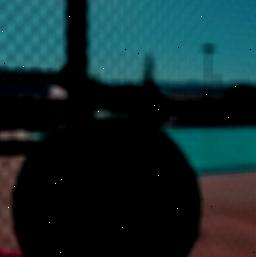algae: (8, 112, 204, 257)
